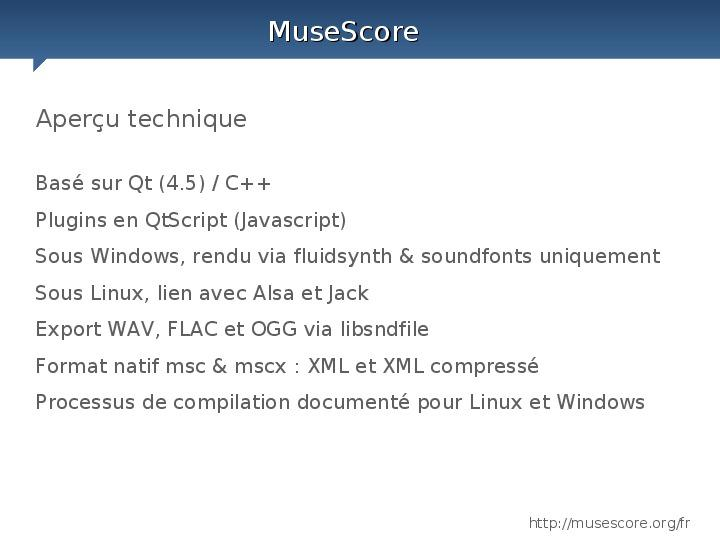paragraph: (30, 152, 685, 431)
subtitle: (30, 96, 270, 146)
title: (261, 16, 433, 53)
